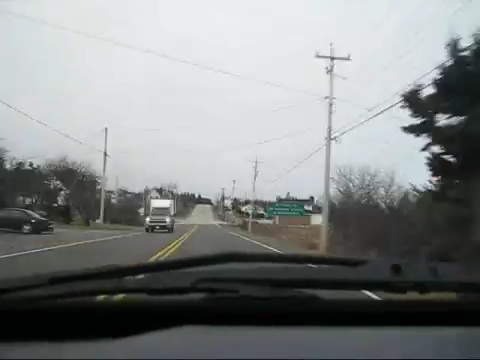car: (1, 208, 54, 235), (142, 206, 175, 233)
